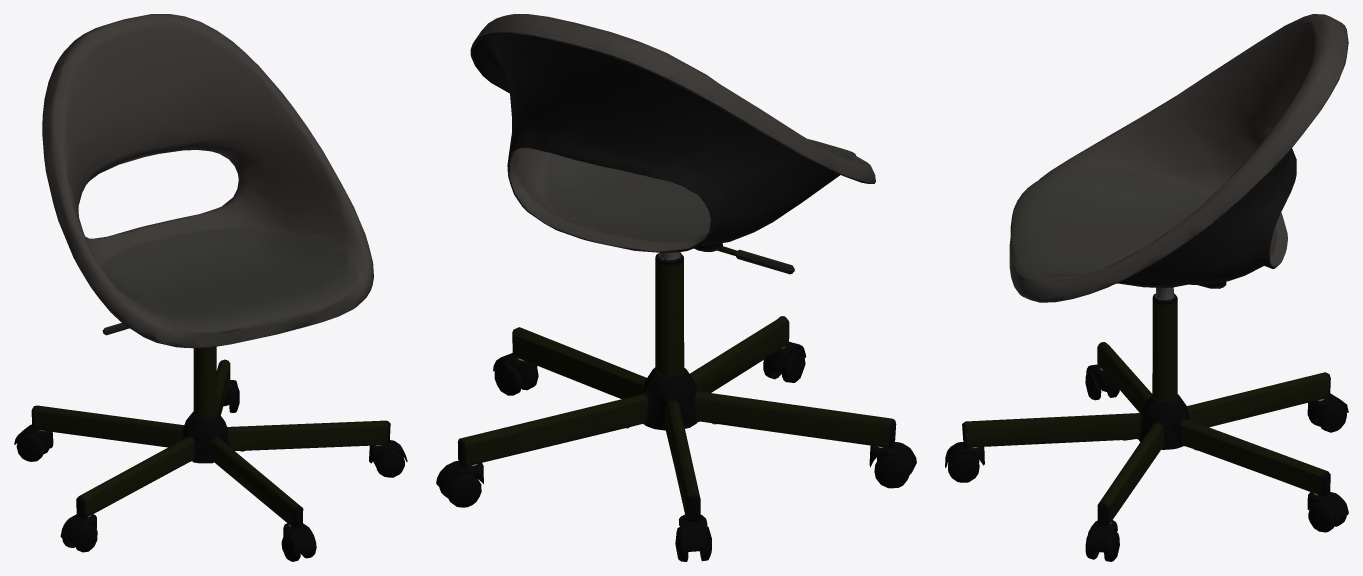
The model's file is 9-ELDBERGET MALSKÄR swivel chair - dark greyblack (59331847).glb.
3 views of the same model, side by side, from view 1: azimuth 30°, elevation 25°; view 2: azimuth 150°, elevation 25°; view 3: azimuth 270°, elevation 25° (orthographic). The views are drawn at different scales.
Parts seen in each view (by area): view 1: ProcessedMeshNode; view 2: ProcessedMeshNode; view 3: ProcessedMeshNode.
Part boxes in pixels (x1,y1,x2,y2): ProcessedMeshNode: [14, 14, 407, 561]; ProcessedMeshNode: [436, 14, 916, 561]; ProcessedMeshNode: [945, 14, 1348, 561].
Size of the model in its own units: 0.674 by 0.779 by 0.6408.
Materials: 1 (1 with a texture image).
